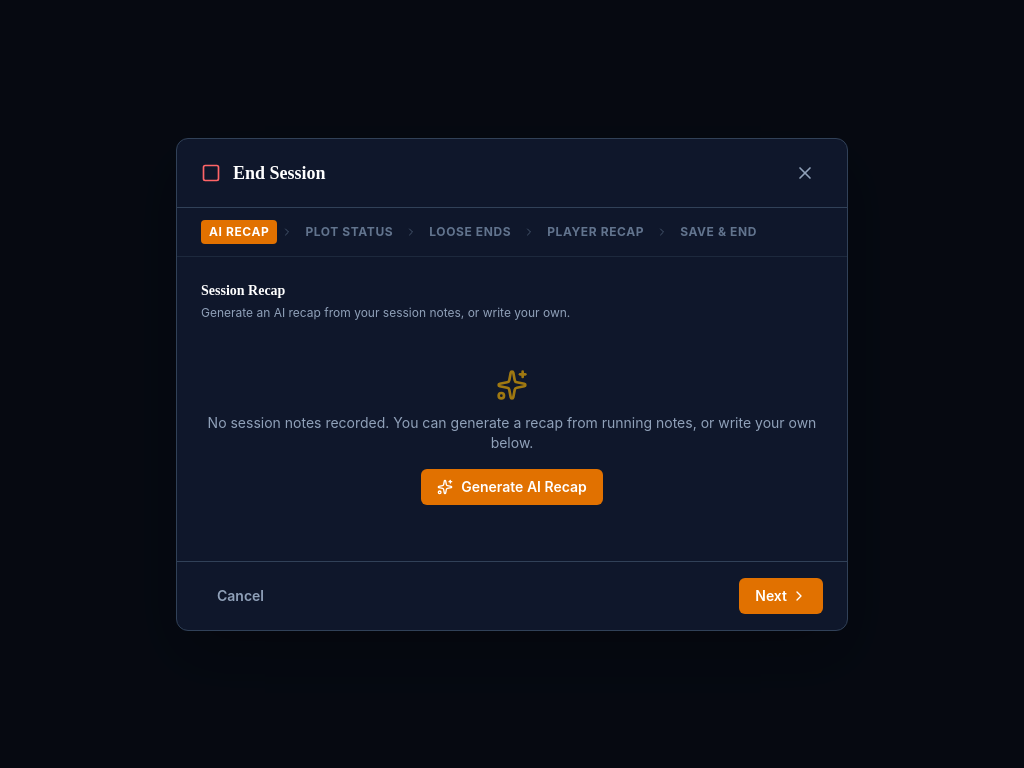
Test: SessionEndWizard — the carry-forward offer appears only when there is something to carry › belongs to the Loose Ends step and appears on no other step
This screenshot has width=1024, height=768.
Expected: the button "unfinished beat" is not shown
Click the button "Plot Status". click: (349, 232)
box: [297,220,401,244]
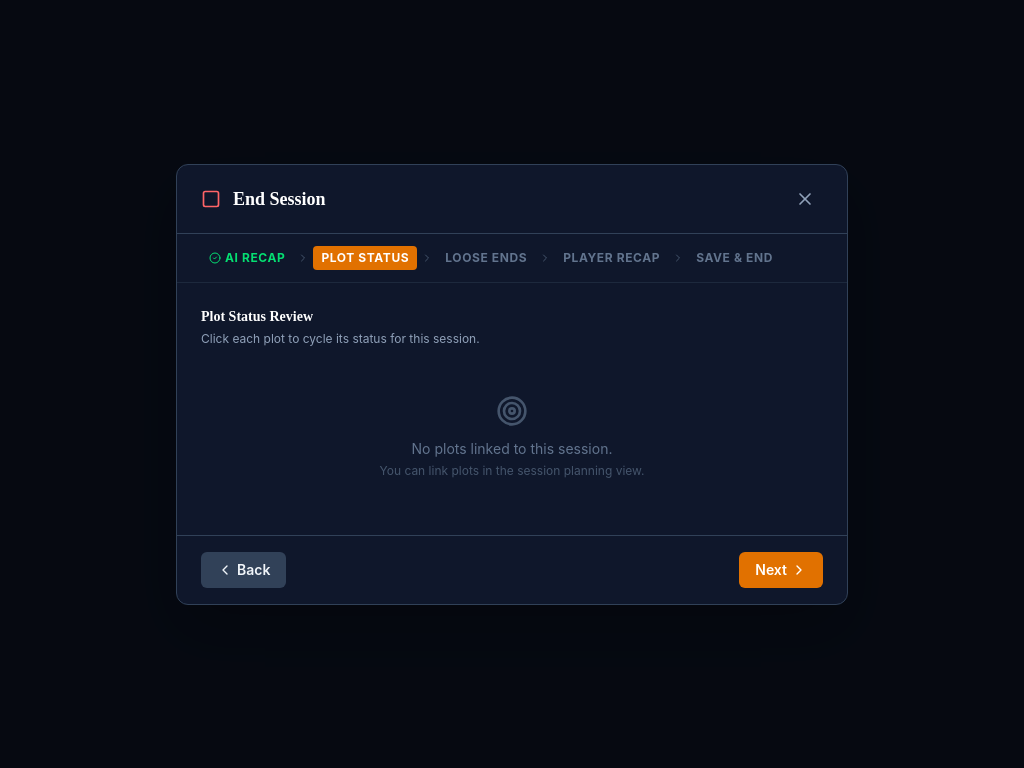
Expected: the button "unfinished beat" is not shown
Click the button "Loose Ends". click: (486, 258)
box: [437,246,535,270]
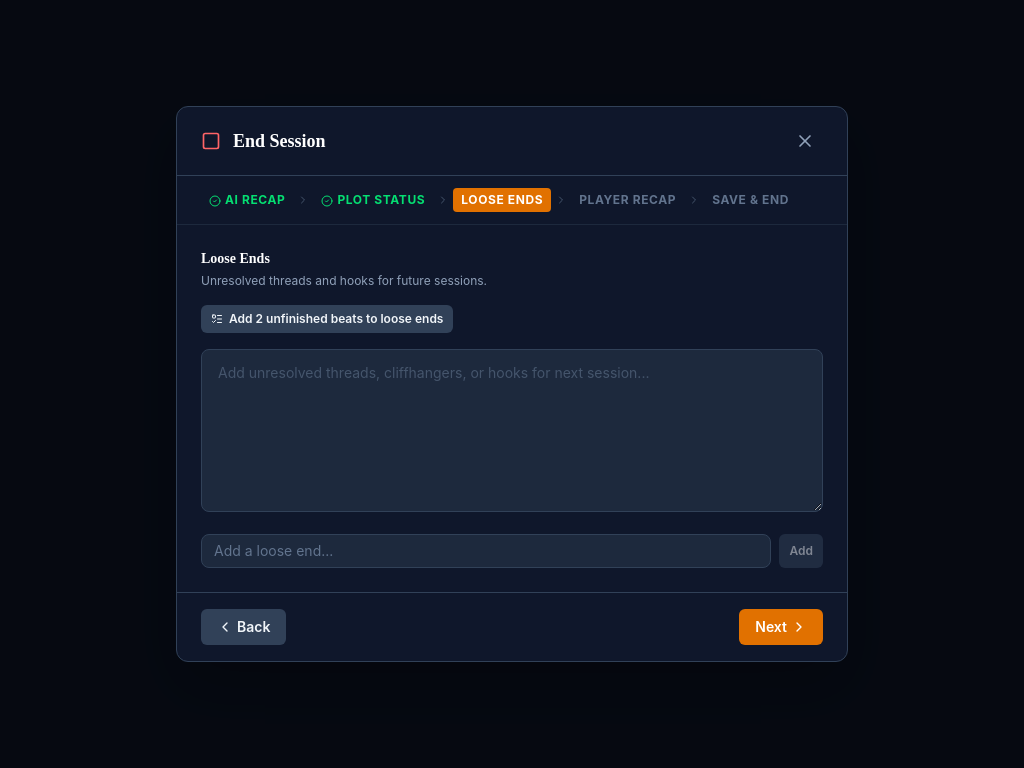
Now the button "Add 2 unfinished beats to loose ends" is shown, box [201,305,454,333]
Click the button "Player Recap". click: (628, 200)
box: [571,188,684,212]
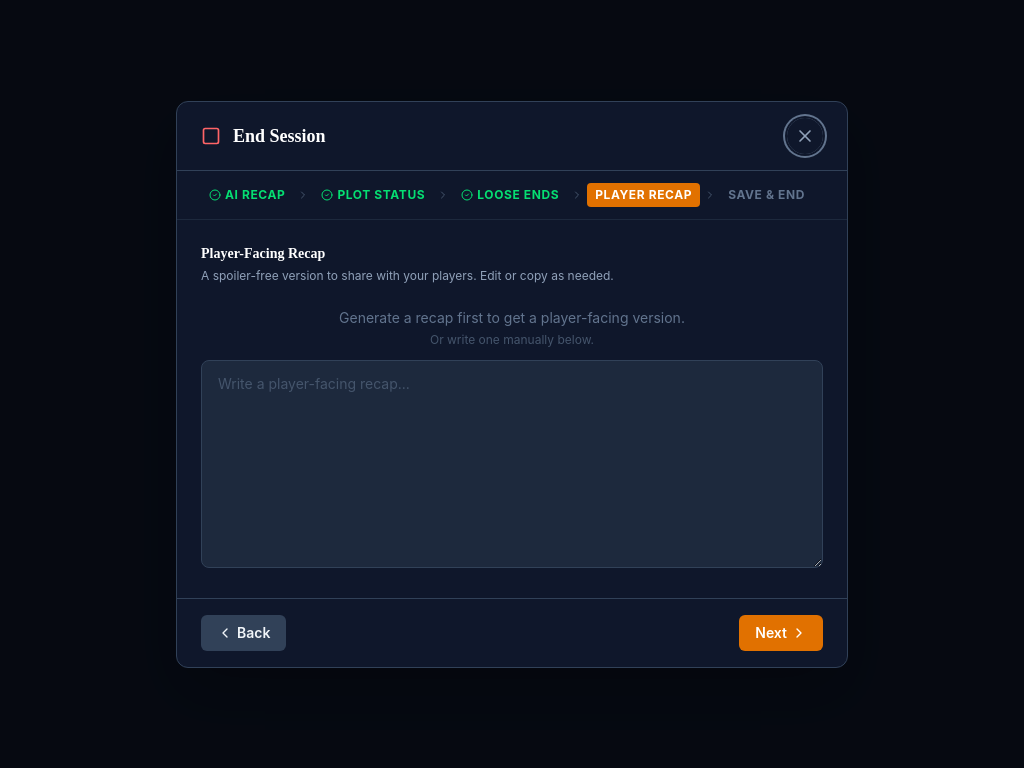
Now the button "unfinished beat" is gone
